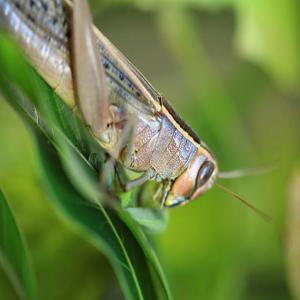locust: (4, 1, 241, 241)
